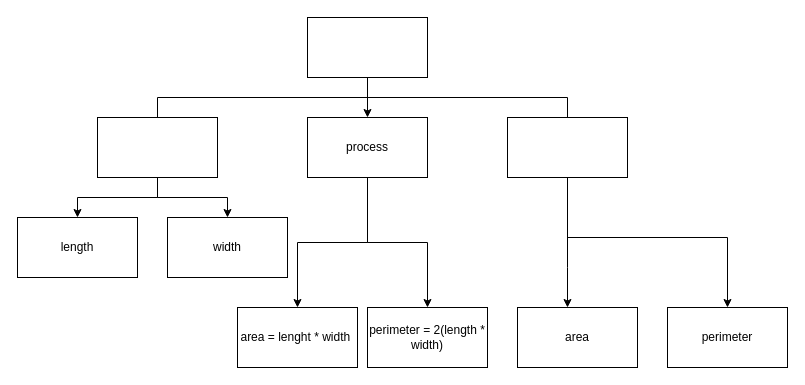
This 805x385 diagram has some shape labels left out. Each missing label, with the centre of its shape:
area and perimeter: [367,47]
input: [157,147]
output: [567,147]
